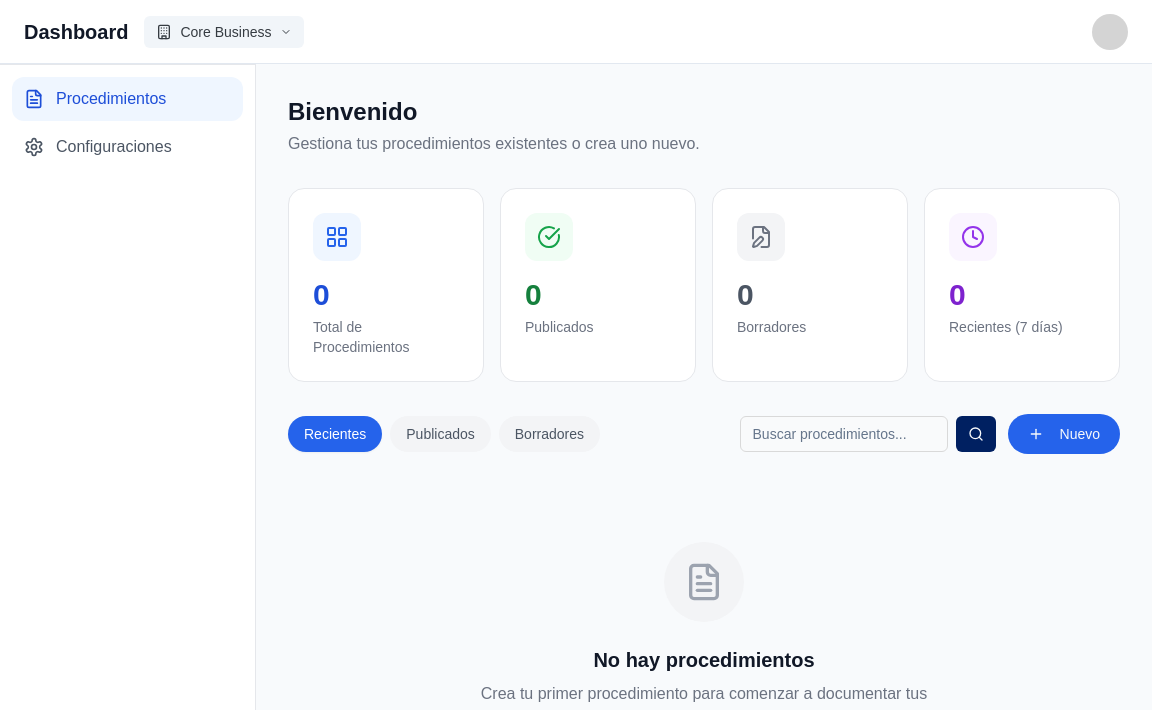
Workspace Selector › should open dropdown when clicked
# Click en el selector
Click the element with test id "workspace-selector".
click(225, 32)  # box [145,16,304,48]
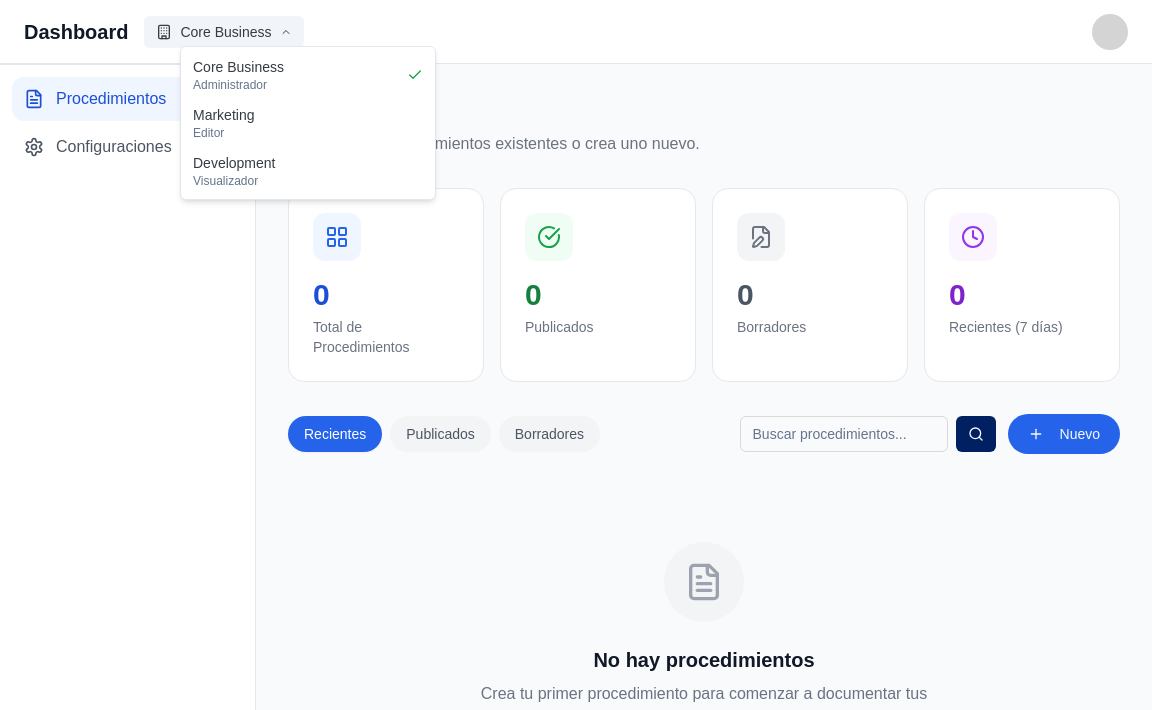
Check: the menu is shown, box [180,46,436,200]
Check: the number of menu items is 3, box [185,51,431,99]; [193,107,254,140]; [193,155,276,188]
Check: the menu item "Core Business Administrador" is shown, box [185,51,431,99]
